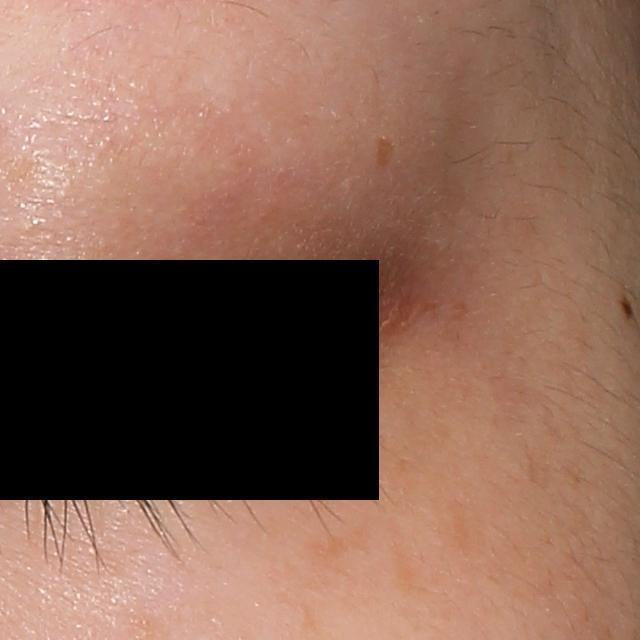melasma: (298, 521, 376, 566), (388, 529, 436, 597), (369, 133, 400, 173)
nevus: (614, 294, 638, 321)
